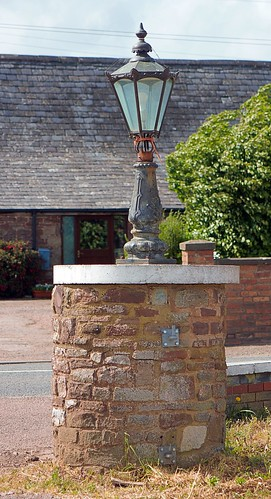building: (6, 49, 264, 290)
light pole: (96, 28, 187, 266)
tree: (178, 74, 271, 256)
